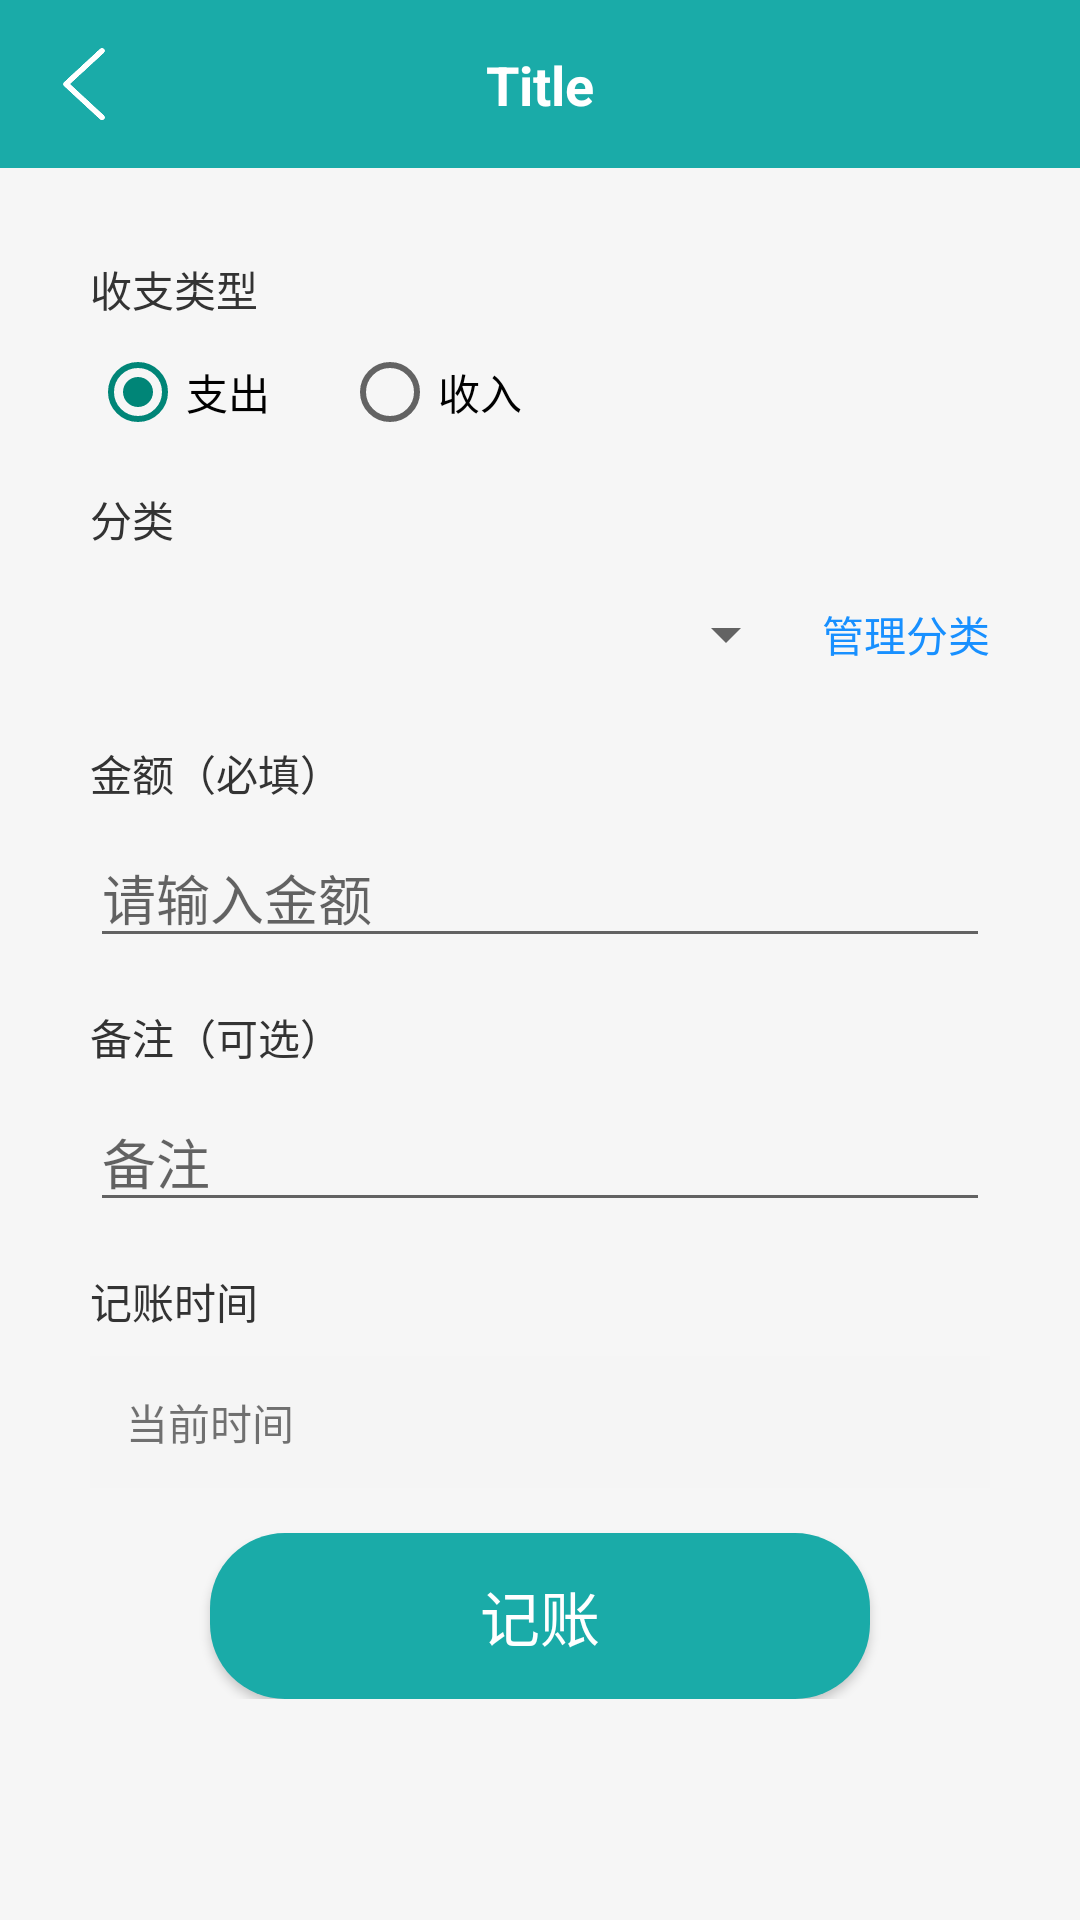

Screen size 1080px x 1920px. Icon name, then its center in pixels as [x,y]:
back: [84,84]
